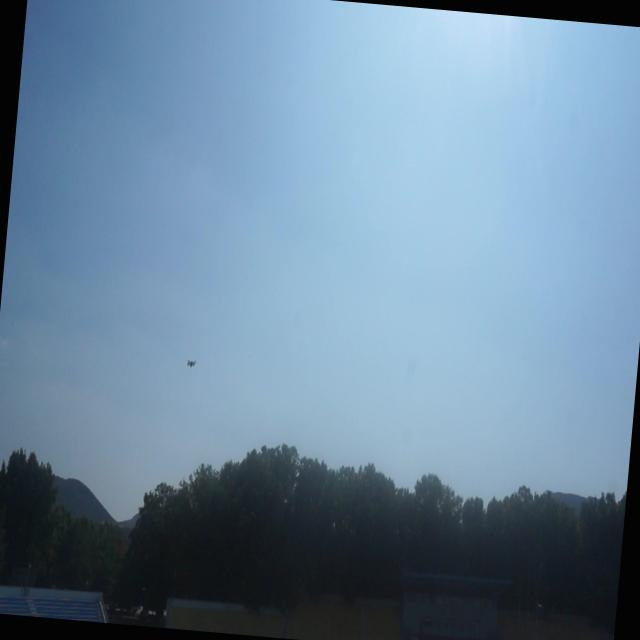drone: (184, 354, 198, 372)
